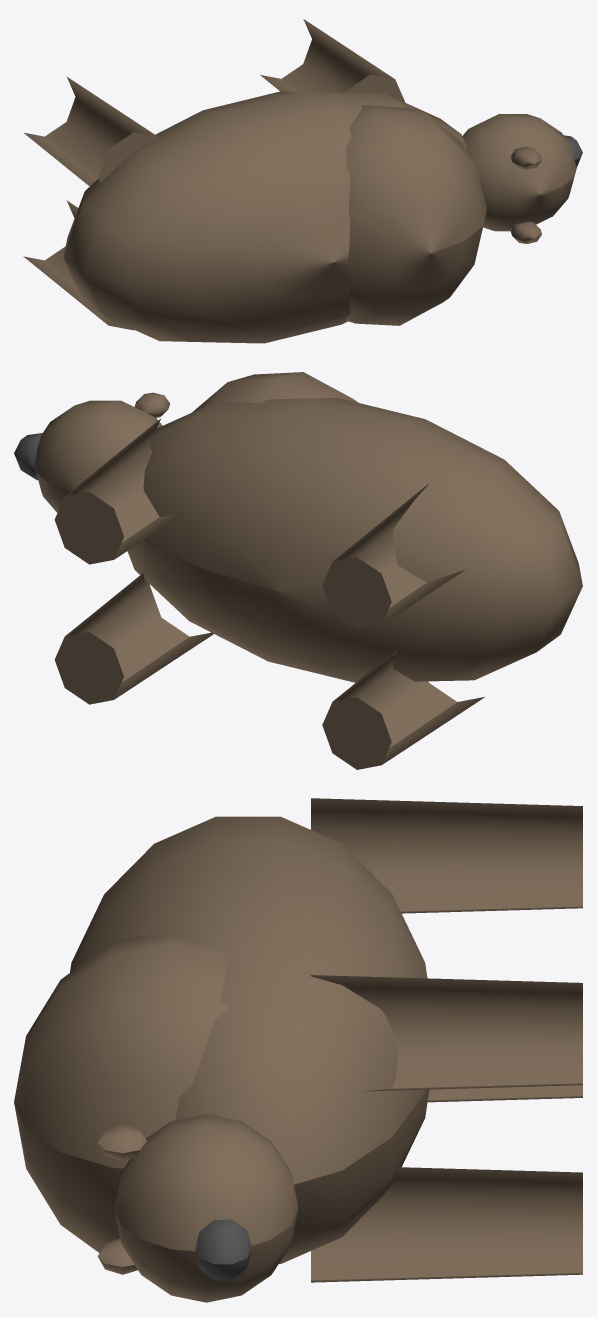
File: bear.glb
The picture shows the model from 3 angles, top to bottom: view 1: azimuth 30°, elevation 25°; view 2: azimuth 150°, elevation 25°; view 3: azimuth 270°, elevation 25°; orthographic projection. The views are drawn at different scales.
Size of the model in its own units: 2.1 by 0.8641 by 1.36.
